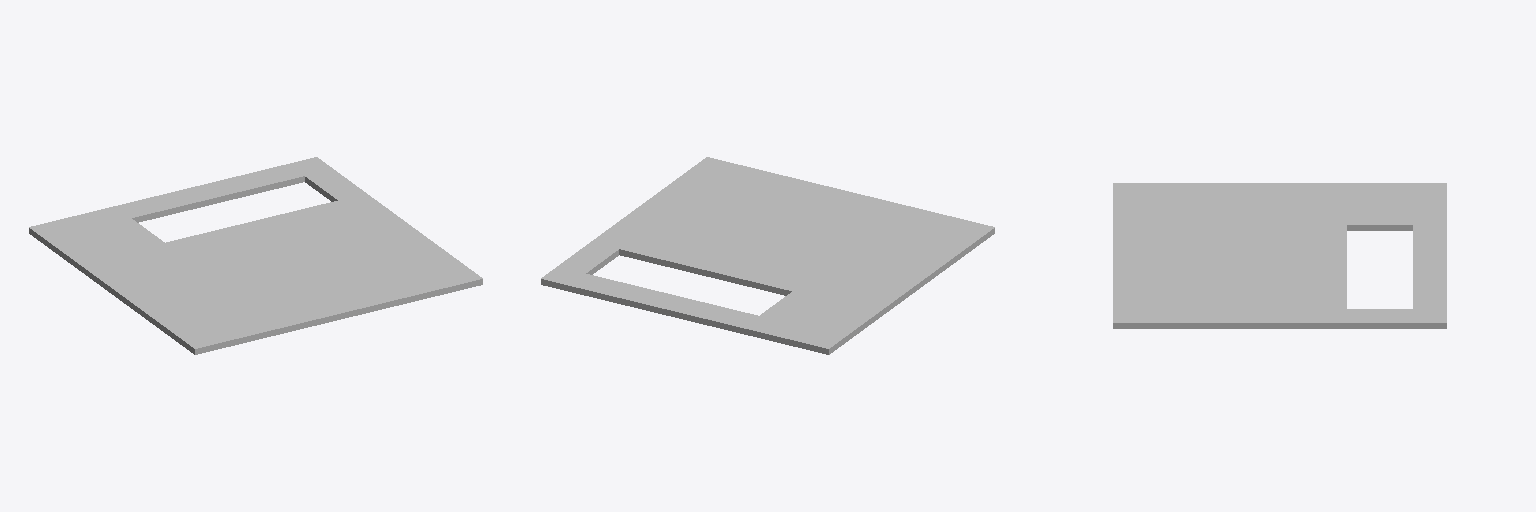
The model's file is House_Floor.obj.
3 views of the same model, side by side, from view 1: azimuth 30°, elevation 25°; view 2: azimuth 150°, elevation 25°; view 3: azimuth 270°, elevation 25° (orthographic).
Parts seen in each view (by area): view 1: pCube36; view 2: pCube36; view 3: pCube36.
Boxes of the visible parts, <box> form: pCube36: <box>29,157,482,354</box>; pCube36: <box>541,157,994,354</box>; pCube36: <box>1113,183,1446,328</box>.
Bounding box in the file's own units: 50 × 1 × 50.